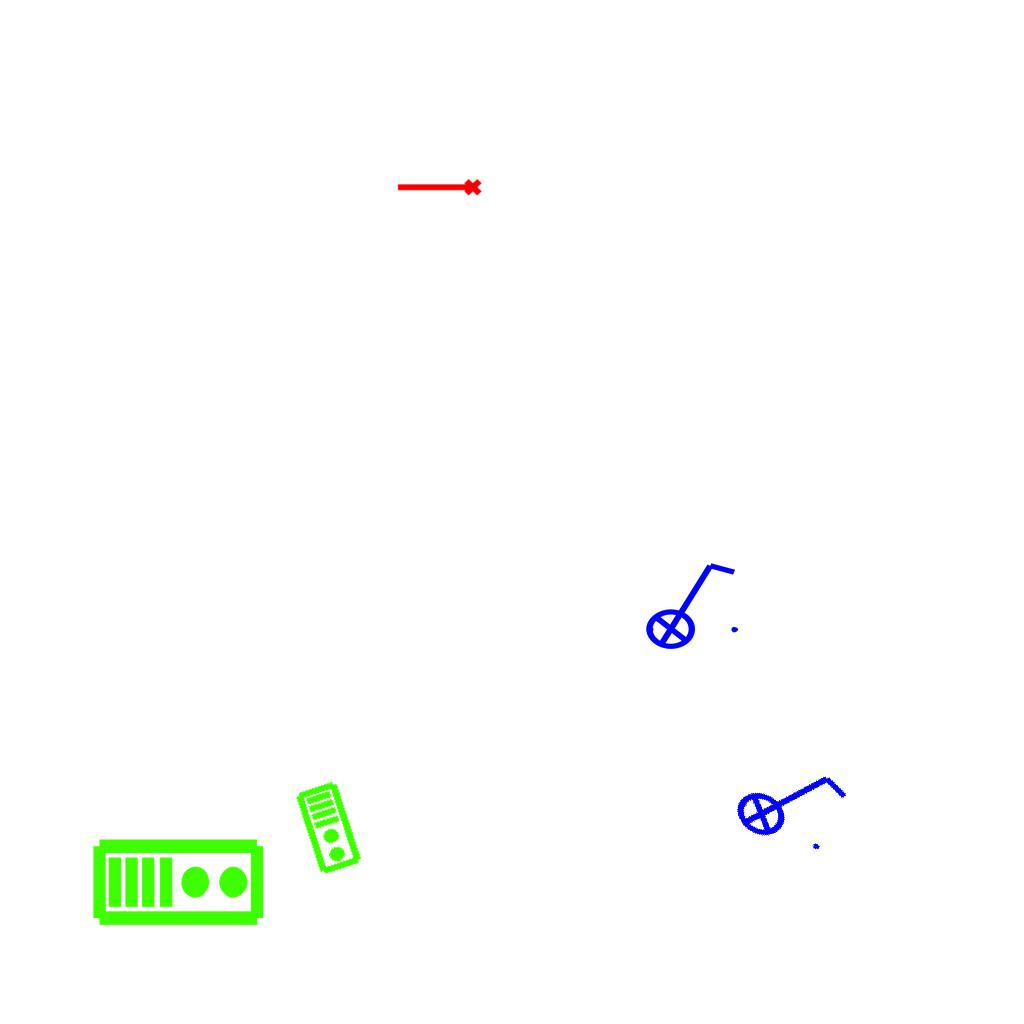ASR_Ansaugoeffnung: (395, 177, 483, 200)
Ausschalter_beleuchtet: (716, 730, 862, 870), (632, 555, 744, 651)
Gegensprechanlage_mit_Video: (91, 833, 267, 928), (293, 778, 366, 878)
